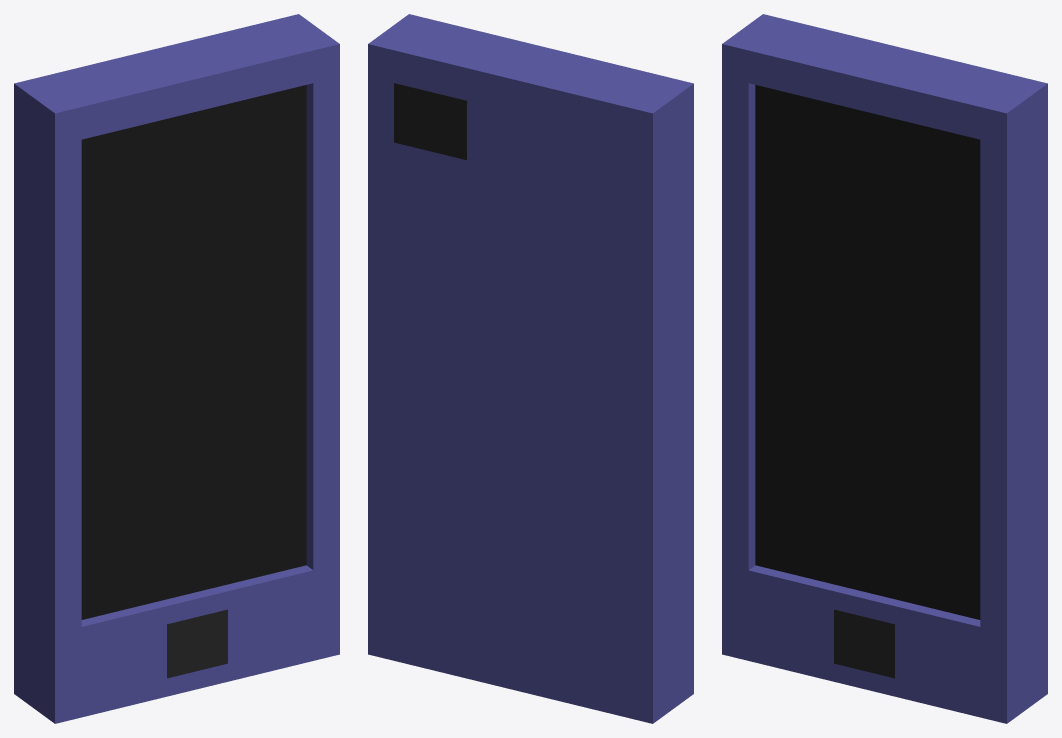
Rendered from SmartPhoneBlue.fbx.
3 views of the same model, side by side, from view 1: azimuth 30°, elevation 25°; view 2: azimuth 150°, elevation 25°; view 3: azimuth 330°, elevation 25° (orthographic).
Visible parts, largest first — view 1: SmartPhoneBlue; view 2: SmartPhoneBlue; view 3: SmartPhoneBlue.
Part boxes in pixels (x1,y1,x2,y2): SmartPhoneBlue: (14, 14, 339, 723); SmartPhoneBlue: (368, 14, 693, 723); SmartPhoneBlue: (722, 14, 1047, 723).
Size of the model in its own units: 0.1294 by 0.2651 by 0.0323.
